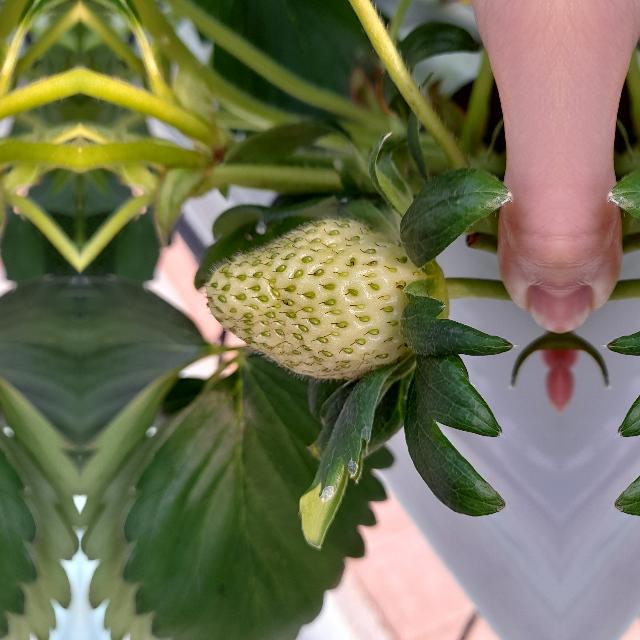Health_25: (205, 218, 408, 380)
